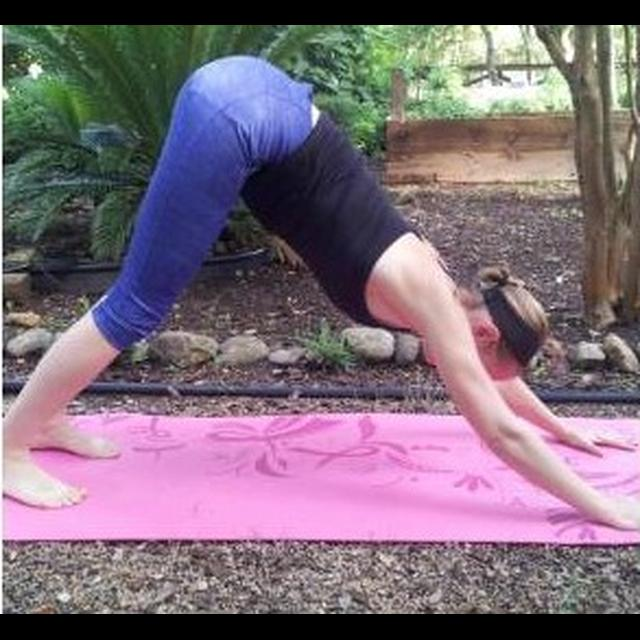Downward-Facing_Dog: (2, 53, 640, 530)
